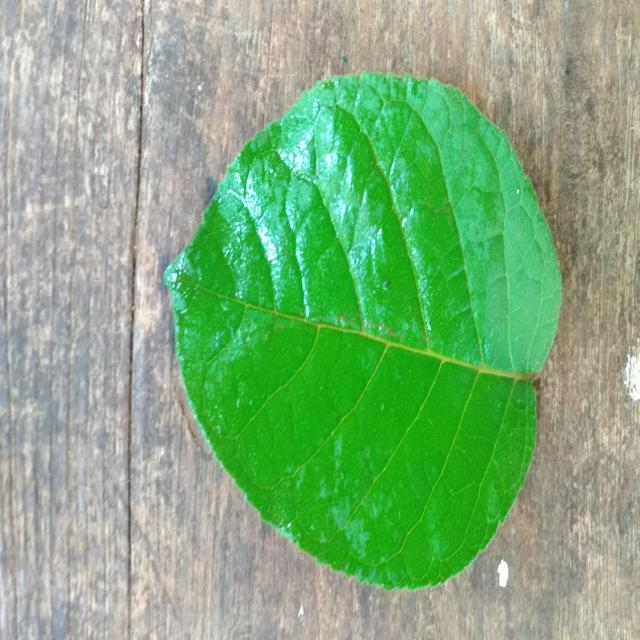padri: (165, 73, 561, 589)
